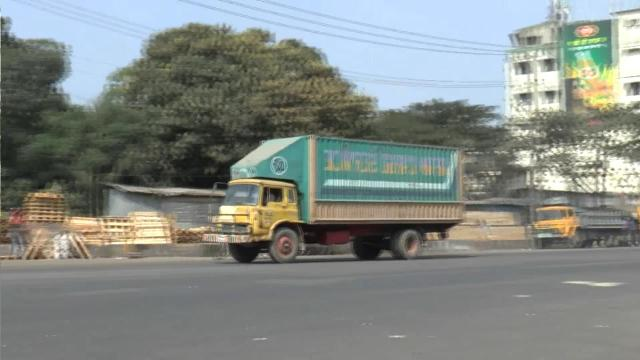truck: (209, 126, 473, 274), (527, 191, 633, 253)
